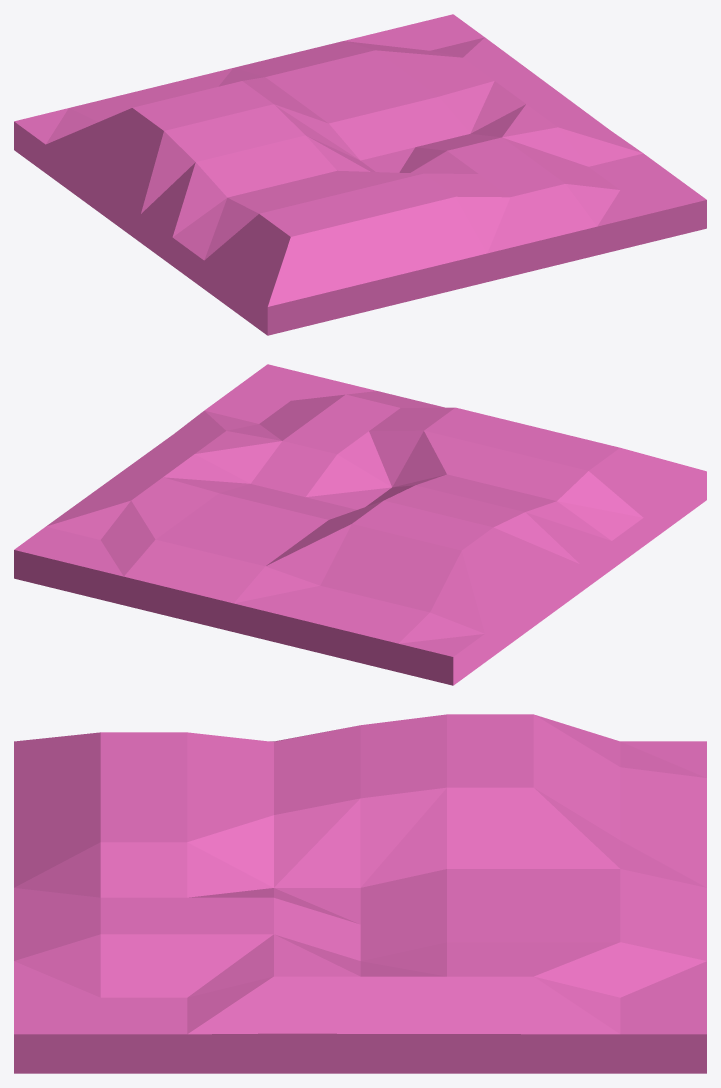
The model's file is hillB.glb.
3 views of the same model, one above another, from view 1: azimuth 30°, elevation 25°; view 2: azimuth 150°, elevation 25°; view 3: azimuth 270°, elevation 25° (orthographic). The views are drawn at different scales.
Visible parts, largest first — view 1: Cube; view 2: Cube; view 3: Cube.
Part boxes in pixels (x1=…): Cube: x1=14, y1=14, x2=706, y2=335; Cube: x1=14, y1=364, x2=706, y2=685; Cube: x1=14, y1=714, x2=706, y2=1073.
Bounding box in the file's own units: 16 × 2.62 × 16.
